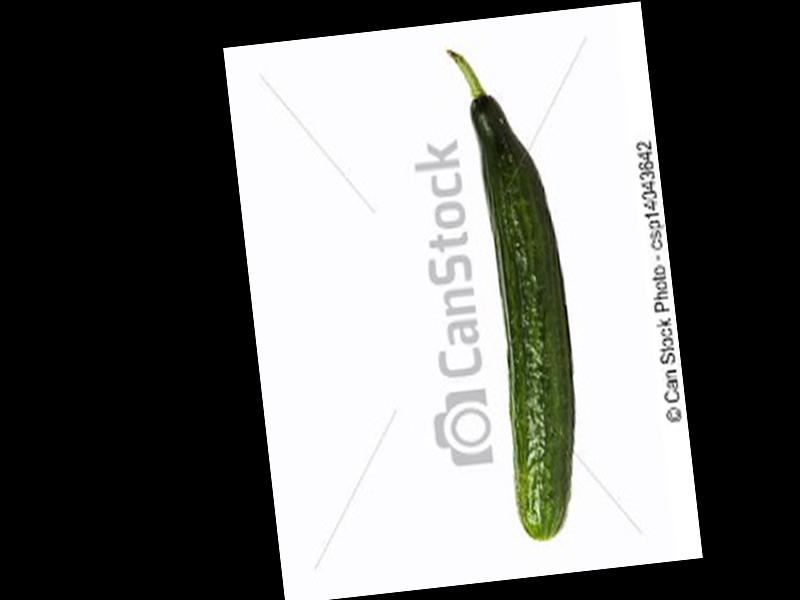Cucumber: (448, 37, 592, 542)
